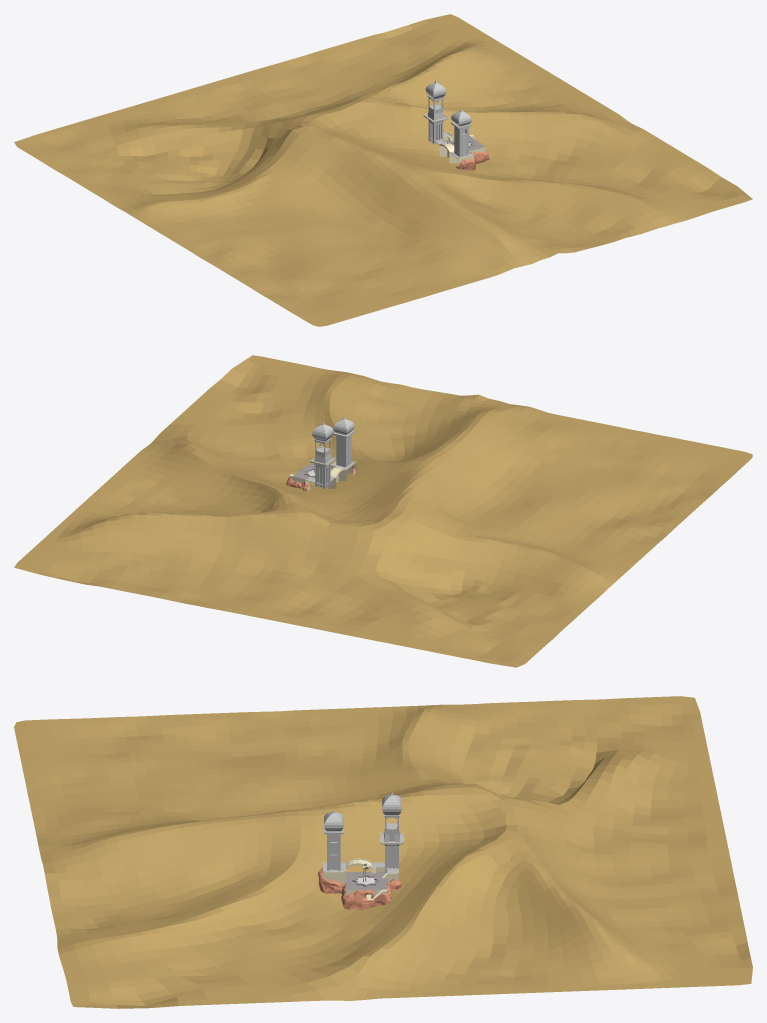
The model's file is castle.FBX.
3 renders of one model, top to bottom at view 1: azimuth 30°, elevation 25°; view 2: azimuth 150°, elevation 25°; view 3: azimuth 270°, elevation 25°, orthographic. The views are drawn at different scales.
Parts seen in each view (by area): view 1: ground_3, tower 1, tower 2; view 2: ground_3, tower 1, tower 2; view 3: ground_3, rocks, tower 1, tower 2, lower castle, central cap.
Part boxes in pixels (x1,y1,x2,y2): ground_3: (14,14,752,326); tower 1: (424,80,448,144); tower 2: (451,109,471,157); ground_3: (14,355,752,667); tower 1: (310,422,335,488); tower 2: (333,417,354,467); ground_3: (14,696,752,1008); rocks: (318,868,401,909); tower 1: (380,792,403,872); tower 2: (324,810,343,870); lower castle: (323,858,398,897); central cap: (346,872,387,889).
Bounding box in the file's own units: 1283 × 217 × 1284.
